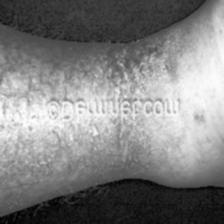Non-Cancerous Skin Condition: (112, 44, 218, 96), (45, 131, 153, 173), (1, 49, 32, 187), (45, 46, 101, 96)
